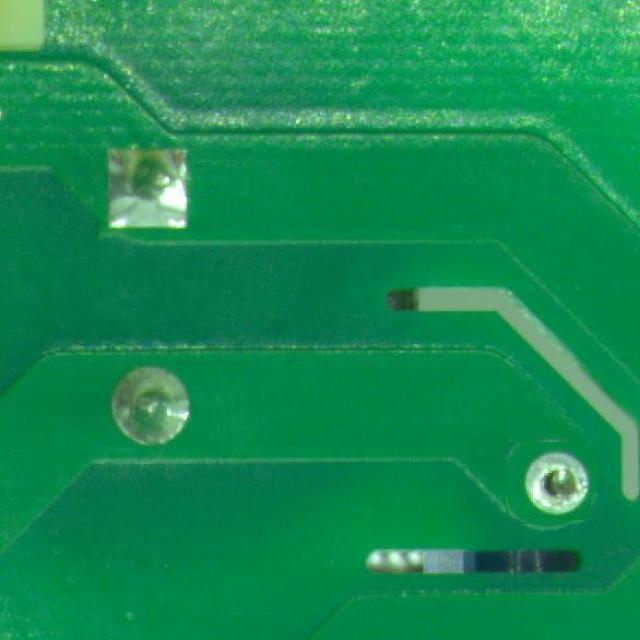lack_of_part: (508, 440, 590, 522)
